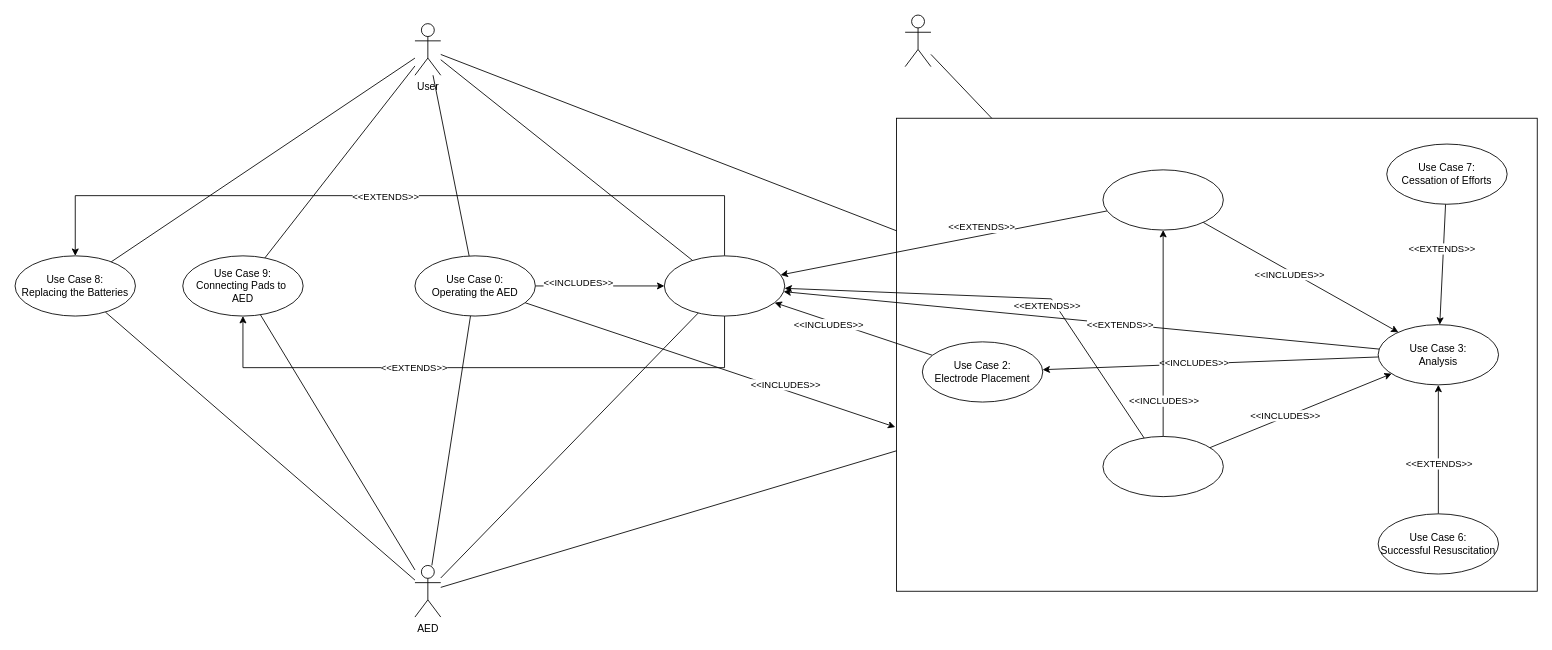
The diagram is 1552 pixels wide and 650 high, and some of its shapes have lost their labels. The shapes that lost their labels are listed below. From the top down, each one's centre as x and y in pixels, then its label:
At point (917, 40): "Patient".
At point (1162, 199): "Use Case 4: Shocks".
At point (724, 285): "Use Case 1: Power On".
At point (1162, 466): "Use Case 5: Compressions".
